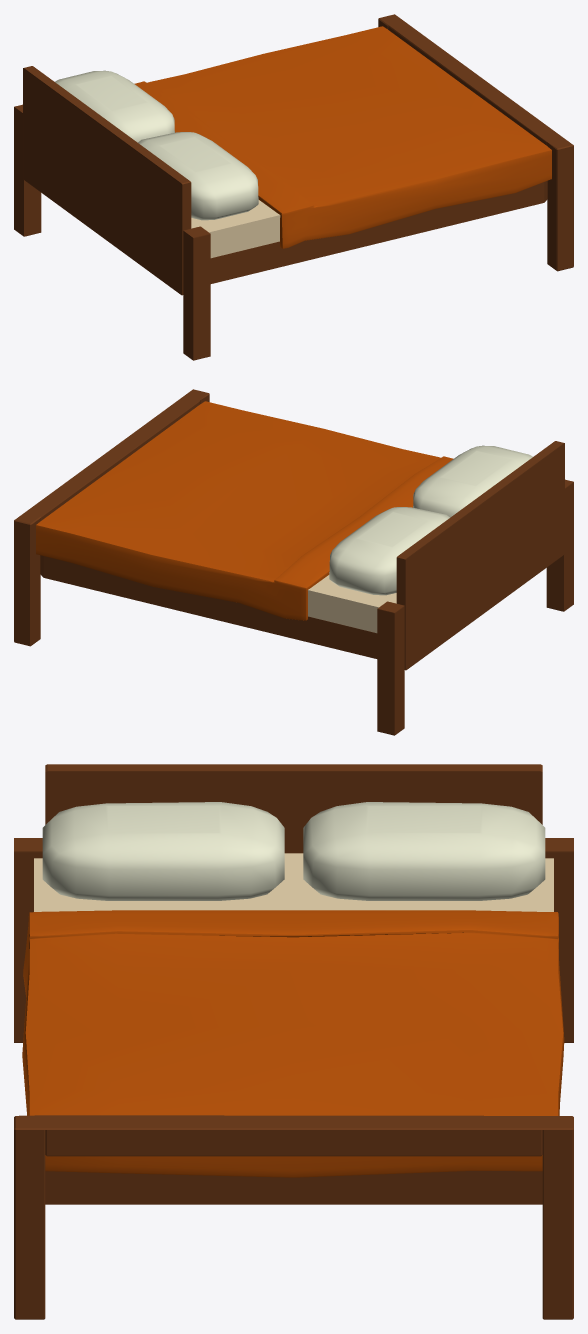
Rendered from Bed.fbx.
3 views of the same model, one above another, from view 1: azimuth 30°, elevation 25°; view 2: azimuth 150°, elevation 25°; view 3: azimuth 270°, elevation 25° (orthographic). The views are drawn at different scales.
Visible parts, largest first — view 1: Cube.023; view 2: Cube.023; view 3: Cube.023.
Part boxes in pixels (x1,y1,x2,y2): Cube.023: (14,14,573,360); Cube.023: (14,389,573,735); Cube.023: (14,764,573,1319).
Size of the model in its own units: 366 by 155 by 298.
